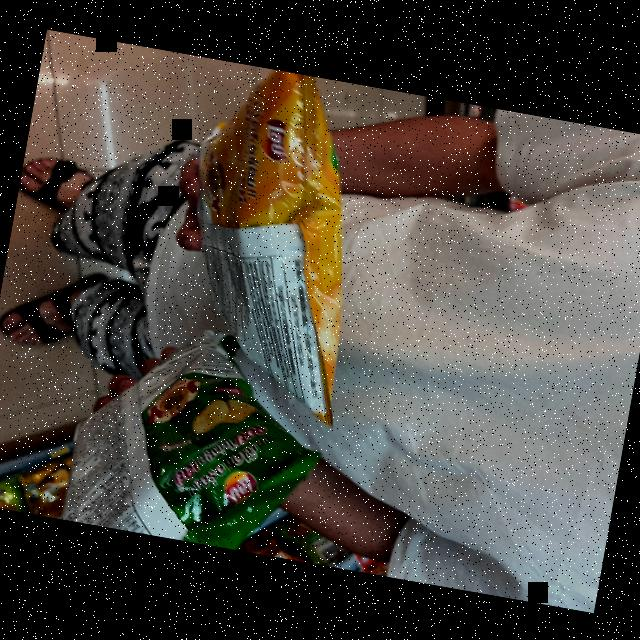snack_bag: (150, 57, 398, 427), (45, 322, 362, 564)
